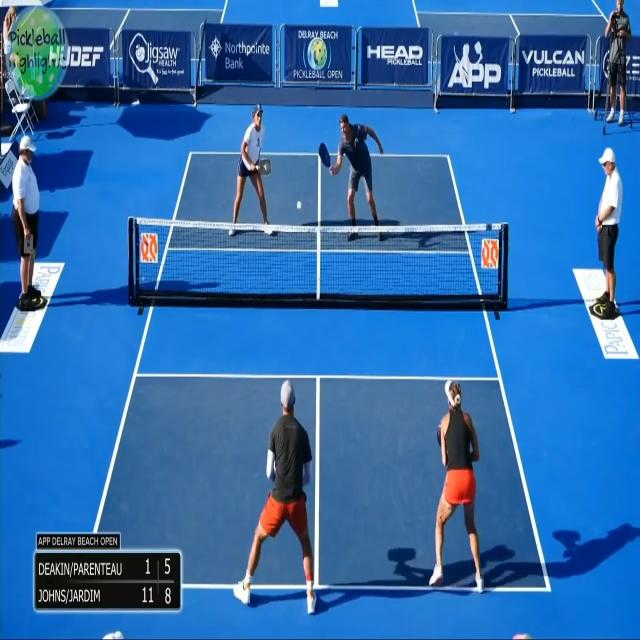ball: (291, 192, 309, 219)
